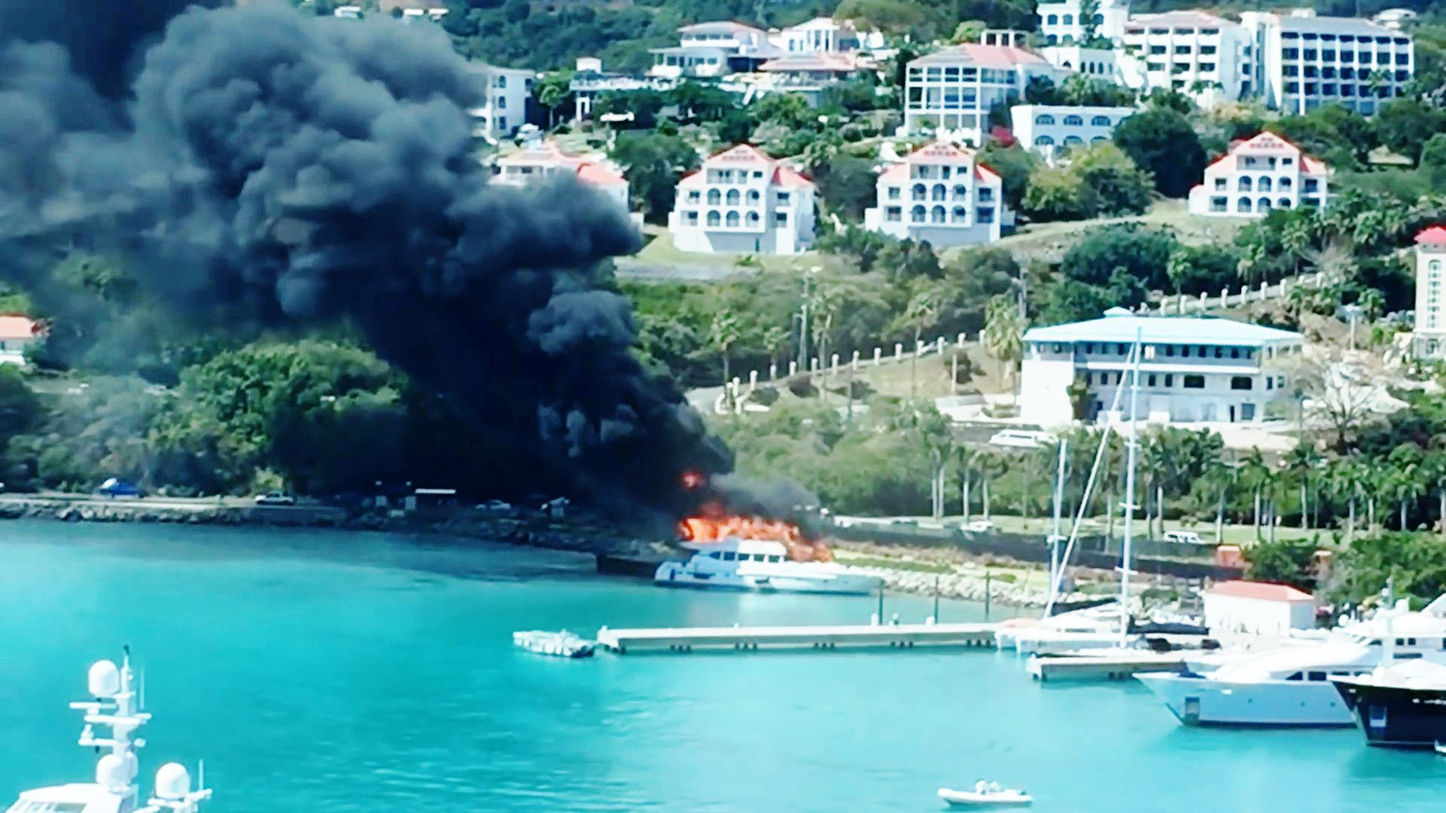fire: (689, 522, 820, 553)
smoke: (6, 0, 465, 276), (399, 181, 641, 495), (255, 190, 614, 335)
